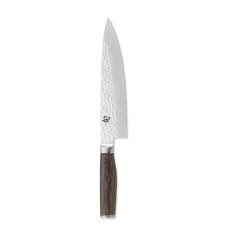kuchillu: (99, 15, 129, 222)
